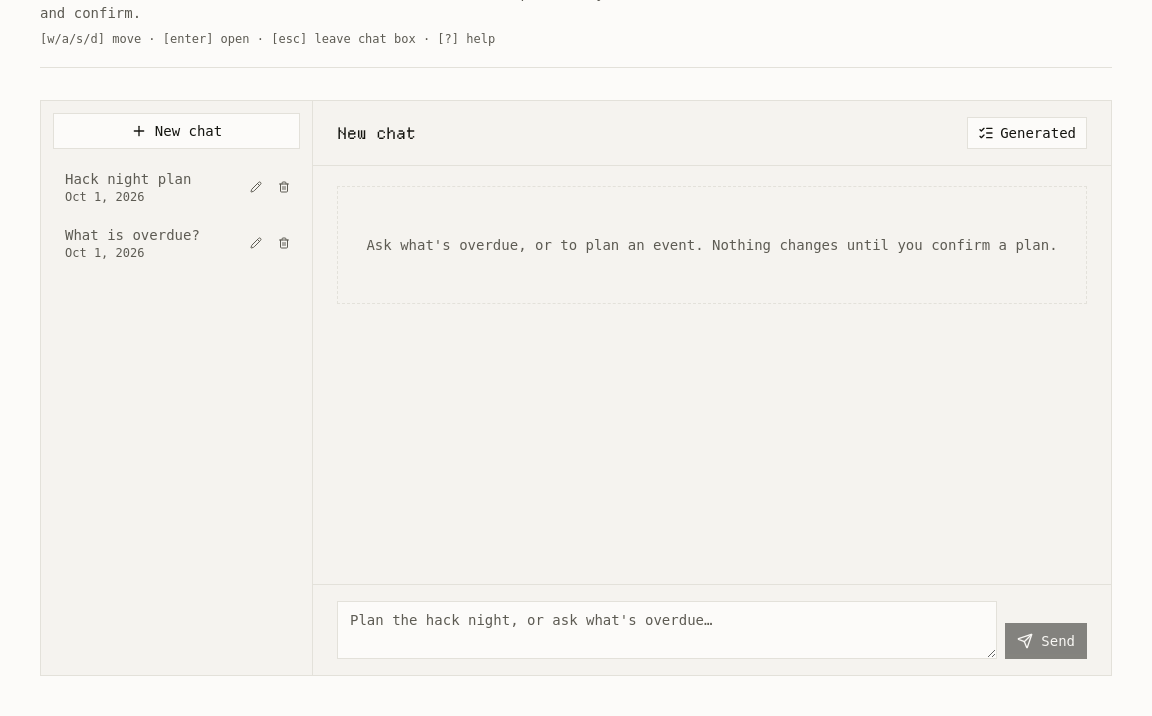
it: carries the event from the address into a new chat
(page scrolled)
Type "Plan it" into the text box named "Message the assistant" at (667, 630), box [337,601,997,659]
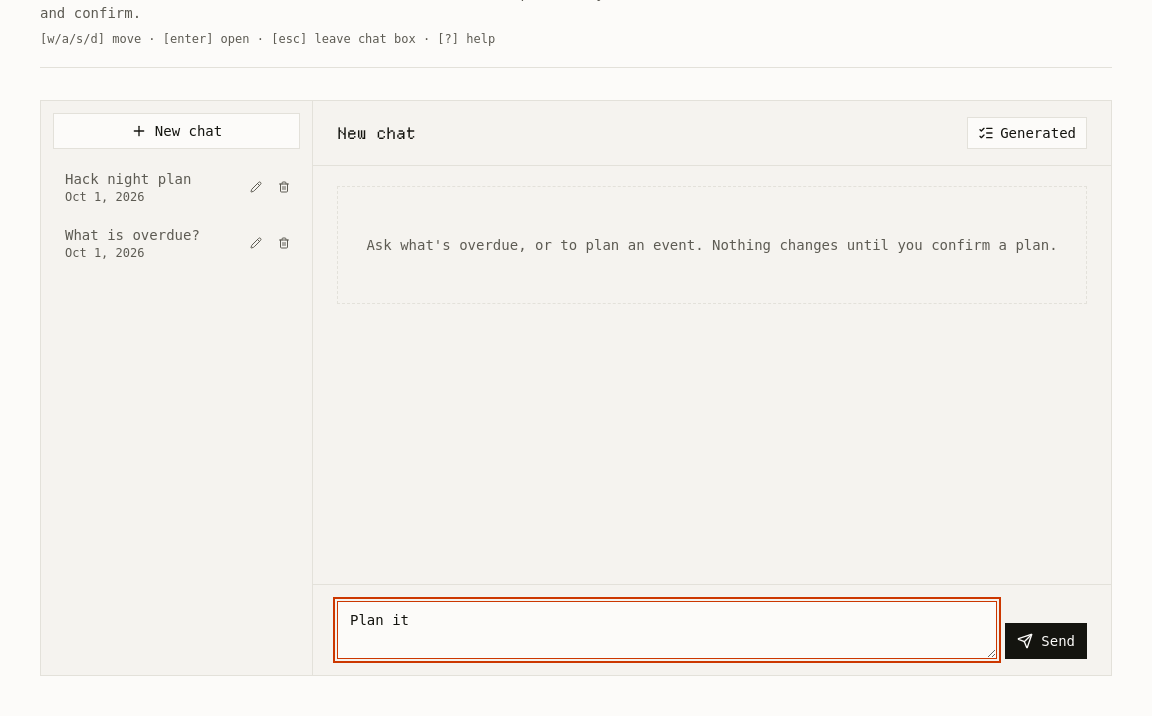
Click the button "Send" at (1046, 641), box [1005,623,1087,659]
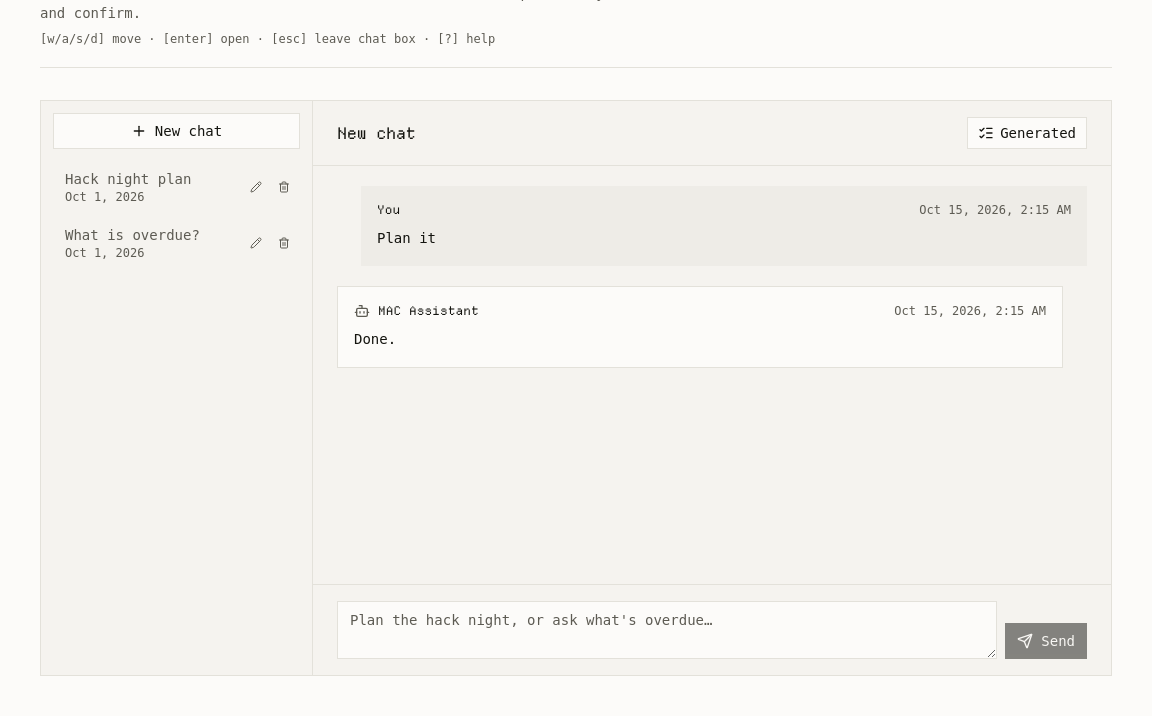
Result: the text "Done." is shown at [354,331,396,347]
